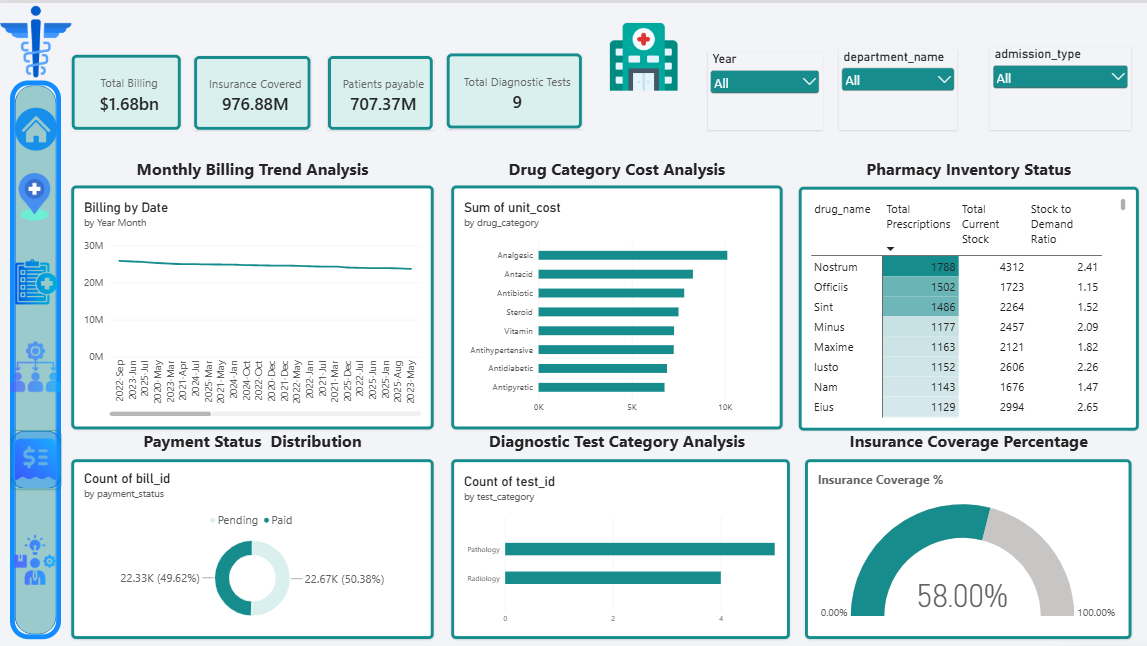

This screenshot's page, from the dashboard's own definition file:
{"tool":"powerbi","page":{"name":"Billing ,Insurance & Treatment Analytics","canvas":[1920,1080],"ordinal":5},"visuals":[{"type":"cardVisual","fields":{"Data":["Measures (2).Total Billing"]},"box":[117.3,84.4,181.1,125.6],"z":0},{"type":"cardVisual","fields":{"Data":["Measures (2).Insurance Covered"]},"box":[319,86.4,193.5,123.5],"z":1000},{"type":"cardVisual","fields":{"Data":["Measures (2).Patients payable"]},"box":[539.3,86.4,175,123.5],"z":2000},{"type":"lineChart","fields":{"Category":["Calendar.Year Month"],"Y":["Measures (2).Billing by Date"]},"box":[117.3,300.5,596.9,401.4],"z":3000},{"type":"barChart","fields":{"Category":["drug_clean.drug_category"],"Y":["Sum(drug_clean.unit_cost)"]},"box":[743.1,300.5,545.5,401.4],"z":4000},{"type":"donutChart","fields":{"Category":["billing_clean.payment_status"],"Y":["Count(billing_clean.bill_id)"]},"box":[117.3,751.3,596.9,296.4],"z":5000},{"type":"clusteredBarChart","fields":{"Category":["diagnostic_test_clean.test_category"],"Y":["Count(diagnostic_test_clean.test_id)"]},"box":[743.1,751.3,557.8,296.4],"z":6000},{"type":"slicer","fields":{"Values":["Calendar.Year"]},"box":[1165,80.3,189.4,129.7],"z":7000},{"type":"slicer","fields":{"Values":["department_clean.department_name"]},"box":[1381.1,76.2,195.5,133.8],"z":8000},{"type":"slicer","fields":{"Values":["admission_clean.admission_type"]},"box":[1630.2,72,232.6,137.9],"z":9000},{"type":"gauge","fields":{"Y":["Measures (2).Insurance Coverage %"]},"box":[1325.6,751.3,537.2,296.4],"z":10000},{"type":"shape","box":[16.5,127.6,84.4,920.1],"z":11000},{"type":"image","box":[0,0,117.3,127.6],"z":12000},{"type":"image","box":[998.3,16.5,123.5,144.1],"z":13000},{"type":"image","box":[24.6,160.9,70,94.7],"z":14000},{"type":"image","box":[16.5,642.2,84.4,218.2],"z":15000},{"type":"image","box":[16.5,496.1,84.4,205.8],"z":16000},{"type":"image","box":[16.5,846,82.3,142],"z":17000},{"type":"image","box":[6.2,422,107,74.1],"z":18000},{"type":"cardVisual","fields":{"Data":["Measures (2).Total Diagnostic Tests"]},"box":[734.8,82.3,224.4,125.6],"z":19000},{"type":"pivotTable","fields":{"Rows":["drug_clean.drug_name"],"Values":["Measures (2).Total Prescriptions","Measures (2).Total Current Stock","Measures (2).Stock to Demand Ratio"]},"box":[1315.3,302.6,559.9,401.4],"z":20000},{"type":"image","box":[0,279.3,114,78.2],"z":21000},{"type":"textbox","box":[117.3,255.2,596.9,45.3],"z":22000},{"type":"textbox","box":[743.1,255.2,545.5,45.3],"z":23000},{"type":"textbox","box":[1315.3,255.2,559.9,47.3],"z":24000},{"type":"textbox","box":[117.3,701.9,596.9,49.4],"z":25000},{"type":"textbox","box":[743.1,701.9,545.5,49.4],"z":26000},{"type":"textbox","box":[207.9,277.9,1667.2,121.4],"z":27000},{"type":"textbox","box":[1315.3,701.9,559.9,49.4],"z":28000},{"type":"shape","box":[18.5,703.9,82.3,96.7],"z":29000}]}

Visuals, with their boxes in screenshot pixels (x1, y1, x2, y2):
cardVisual - Measures (2).Total Billing: {"left": 69, "top": 49, "right": 179, "bottom": 125}
cardVisual - Measures (2).Insurance Covered: {"left": 192, "top": 50, "right": 310, "bottom": 125}
cardVisual - Measures (2).Patients payable: {"left": 326, "top": 50, "right": 433, "bottom": 125}
lineChart - Calendar.Year Month x Measures (2).Billing by Date: {"left": 69, "top": 181, "right": 433, "bottom": 426}
barChart - drug_clean.drug_category x Sum(drug_clean.unit_cost): {"left": 451, "top": 181, "right": 784, "bottom": 426}
donutChart - billing_clean.payment_status x Count(billing_clean.bill_id): {"left": 69, "top": 456, "right": 433, "bottom": 637}
clusteredBarChart - diagnostic_test_clean.test_category x Count(diagnostic_test_clean.test_id): {"left": 451, "top": 456, "right": 792, "bottom": 637}
slicer - Calendar.Year: {"left": 709, "top": 46, "right": 824, "bottom": 125}
slicer - department_clean.department_name: {"left": 841, "top": 44, "right": 960, "bottom": 125}
slicer - admission_clean.admission_type: {"left": 993, "top": 41, "right": 1135, "bottom": 125}
gauge - Measures (2).Insurance Coverage %: {"left": 807, "top": 456, "right": 1135, "bottom": 637}
shape: {"left": 7, "top": 75, "right": 59, "bottom": 637}
image: {"left": 0, "top": 0, "right": 69, "bottom": 75}
image: {"left": 607, "top": 7, "right": 682, "bottom": 95}
image: {"left": 12, "top": 95, "right": 55, "bottom": 153}
image: {"left": 7, "top": 389, "right": 59, "bottom": 523}
image: {"left": 7, "top": 300, "right": 59, "bottom": 426}
image: {"left": 7, "top": 514, "right": 57, "bottom": 600}
image: {"left": 1, "top": 255, "right": 66, "bottom": 300}
cardVisual - Measures (2).Total Diagnostic Tests: {"left": 446, "top": 47, "right": 583, "bottom": 124}
pivotTable - drug_clean.drug_name x Measures (2).Total Prescriptions: {"left": 800, "top": 182, "right": 1142, "bottom": 427}
image: {"left": 0, "top": 168, "right": 67, "bottom": 215}
textbox: {"left": 69, "top": 153, "right": 433, "bottom": 181}
textbox: {"left": 451, "top": 153, "right": 784, "bottom": 181}
textbox: {"left": 800, "top": 153, "right": 1142, "bottom": 182}
textbox: {"left": 69, "top": 426, "right": 433, "bottom": 456}
textbox: {"left": 451, "top": 426, "right": 784, "bottom": 456}
textbox: {"left": 124, "top": 167, "right": 1142, "bottom": 241}
textbox: {"left": 800, "top": 426, "right": 1142, "bottom": 456}
shape: {"left": 8, "top": 427, "right": 59, "bottom": 486}
